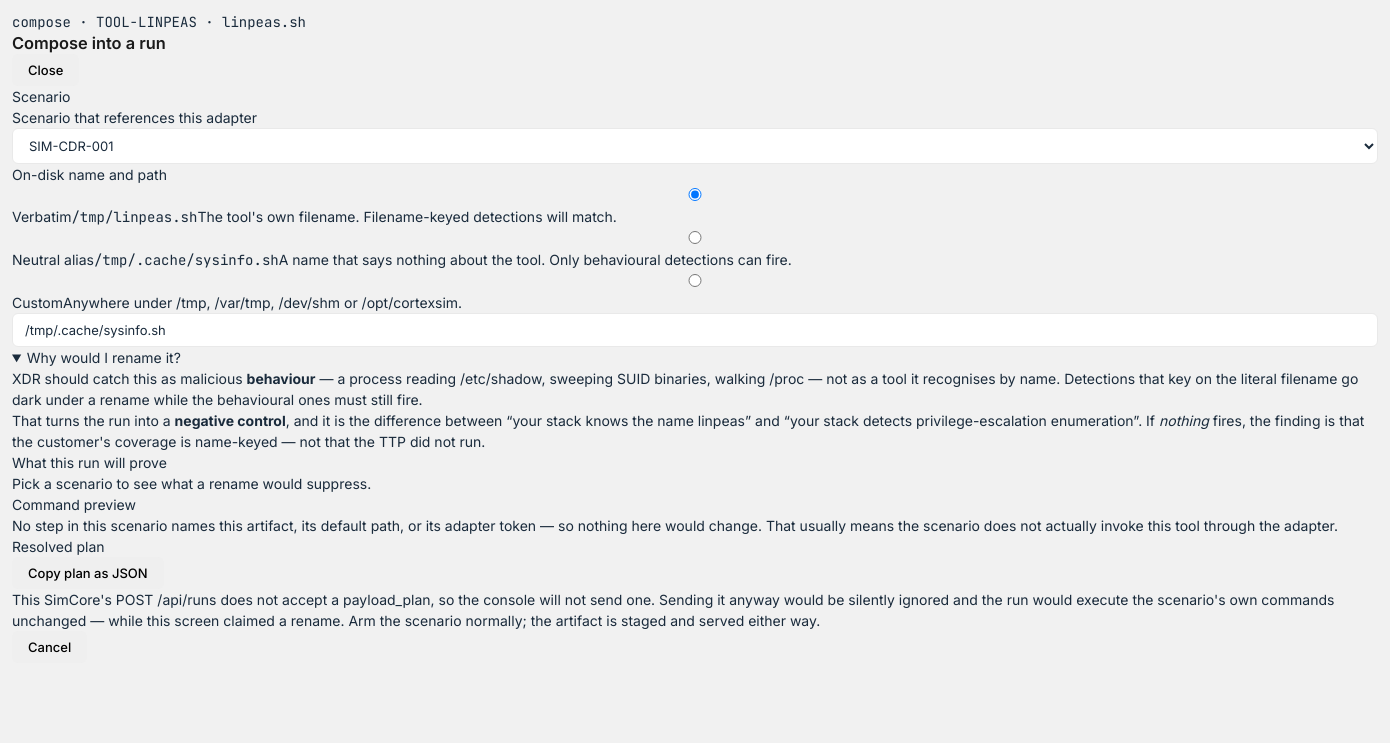
Test: <PayloadComposer /> — the rename control › validates a custom path against the staging allowlist
Replace the text in the field with test id "compose-custom-path" with "/usr/bin/x": (695, 330) 12,313 -> 1378,347
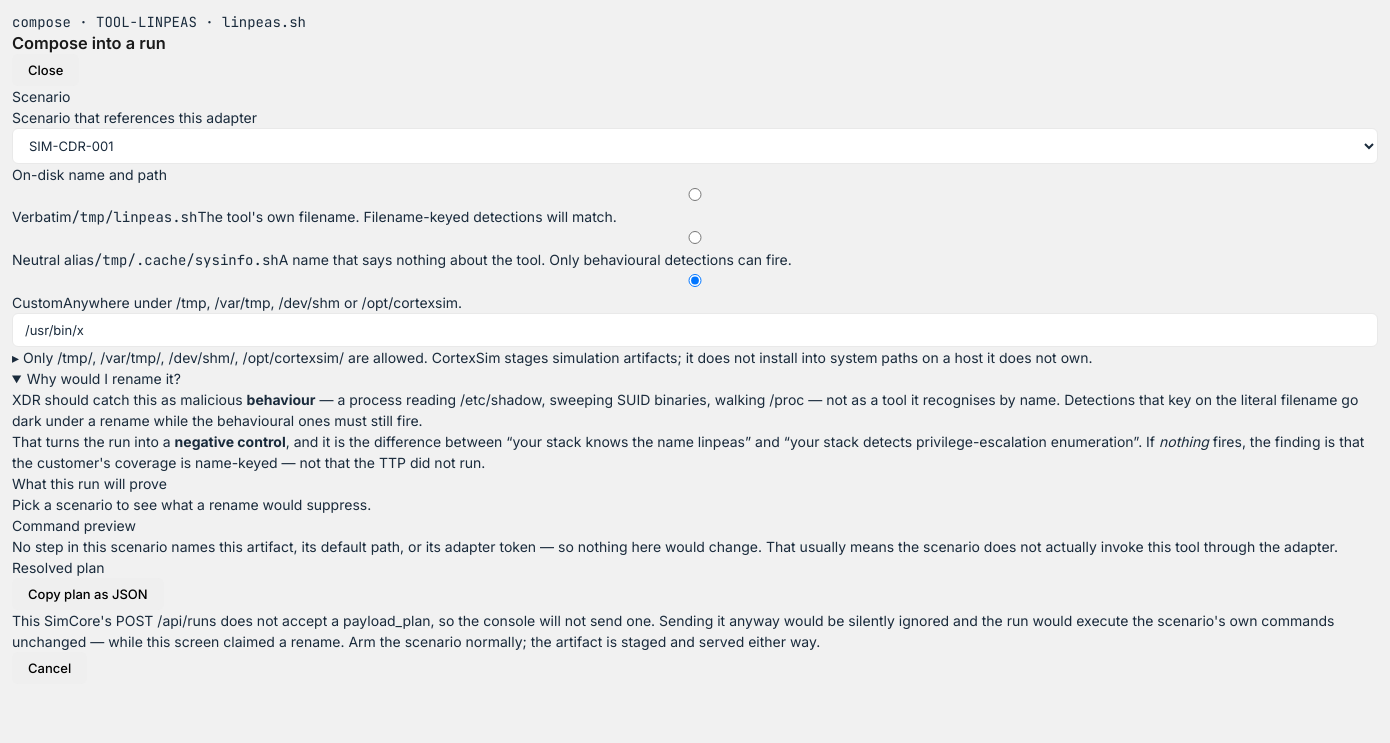
Expected: the list with test id "compose-path-error" is shown, 12,349 -> 1092,366
Replace the text in the field with test id "compose-custom-path" with "a; rm -rf /": (695, 330) 12,313 -> 1378,347
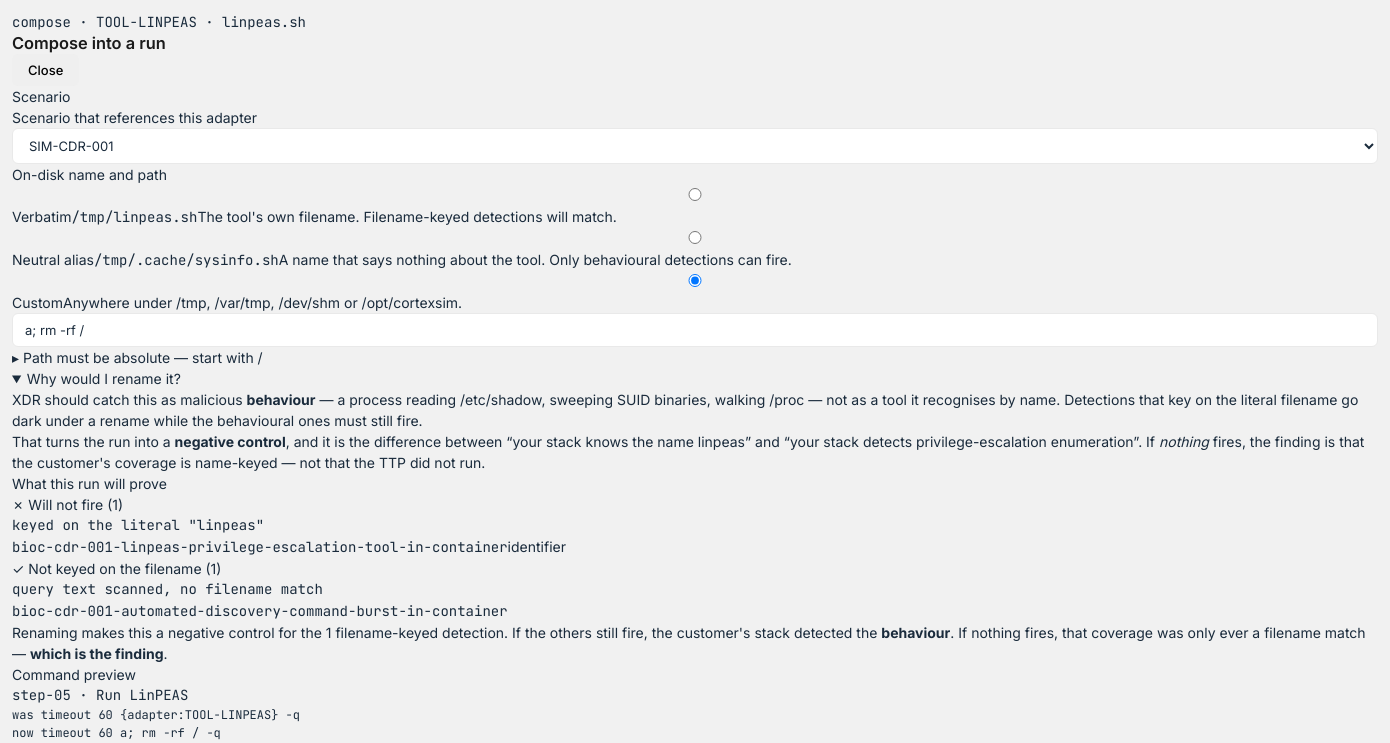
Expected: the list with test id "compose-path-error" shows "absolute", 23,349 -> 263,366
Replace the text in the field with test id "compose-custom-path" with "/tmp/.cache/sysinfo.sh": (695, 330) 12,313 -> 1378,347
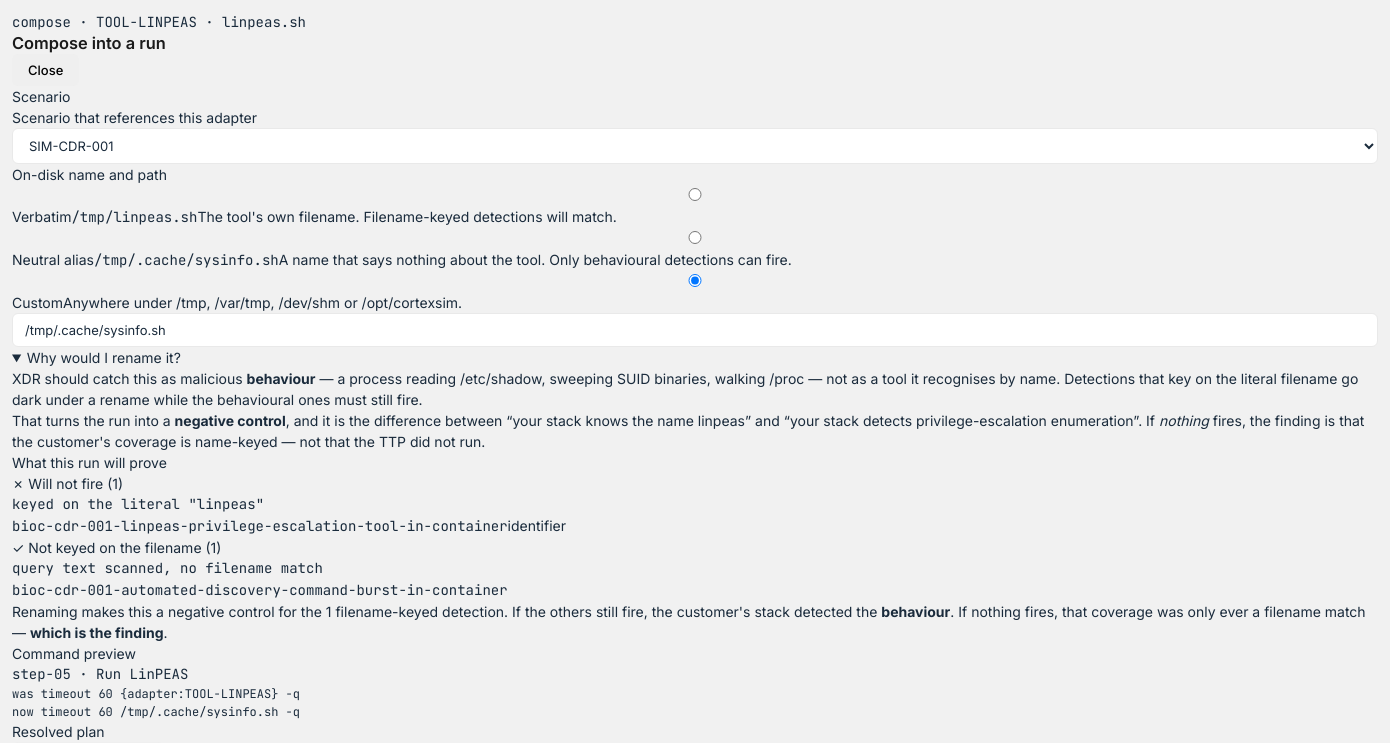
Expected: the list with test id "compose-path-error" is gone
